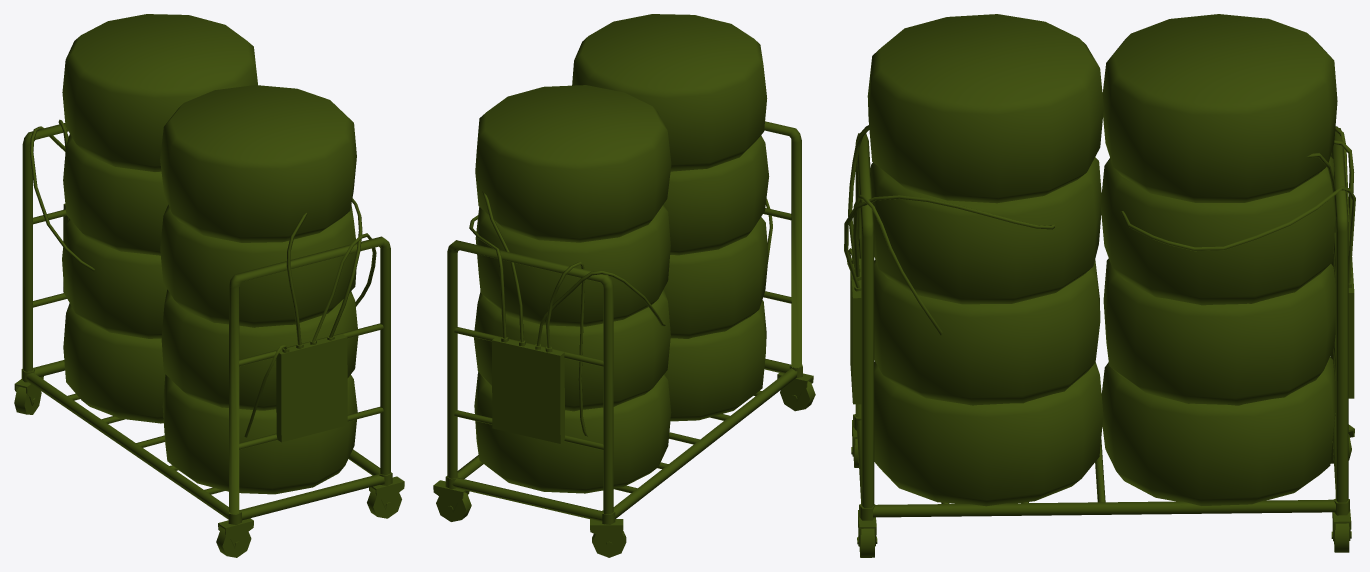
Rendered from Tire_warmers01_M.fbx.
The picture shows the model from 3 angles, left to right: view 1: azimuth 30°, elevation 25°; view 2: azimuth 150°, elevation 25°; view 3: azimuth 270°, elevation 25°; orthographic projection. The views are drawn at different scales.
Parts seen in each view (by area): view 1: Tire_warmers01_Tire_4, Tire_warmers01_troll, Tire_warmers01_Tire_8, Tire_warmers01_Tire_3, Tire_warmers01_Tire_1, Tire_warmers01_Tire_2, Tire_warmers01_Tire_6, Tire_warmers01_Tire_5, Tire_warmers01_Tire_7, Tire_warmers01_trollWires, Tire_warmers01_Wheel_2, Tire_warmers01_Wheel_4 (+1 smaller); view 2: Tire_warmers01_Tire_8, Tire_warmers01_troll, Tire_warmers01_Tire_4, Tire_warmers01_Tire_7, Tire_warmers01_Tire_5, Tire_warmers01_Tire_6, Tire_warmers01_Tire_2, Tire_warmers01_Tire_3, Tire_warmers01_Tire_1, Tire_warmers01_trollWires, Tire_warmers01_Wheel_1, Tire_warmers01_Wheel_3 (+1 smaller); view 3: Tire_warmers01_Tire_4, Tire_warmers01_Tire_8, Tire_warmers01_Tire_5, Tire_warmers01_Tire_6, Tire_warmers01_Tire_1, Tire_warmers01_Tire_7, Tire_warmers01_Tire_2, Tire_warmers01_Tire_3, Tire_warmers01_troll, Tire_warmers01_trollWires, Tire_warmers01_Wheel_3, Tire_warmers01_Wheel_4.
Part boxes in pixels (left/top/right/bottom): Tire_warmers01_Tire_4: left=160, top=85, right=356, bottom=242; Tire_warmers01_troll: left=22, top=123, right=390, bottom=520; Tire_warmers01_Tire_8: left=62, top=14, right=257, bottom=171; Tire_warmers01_Tire_3: left=160, top=204, right=356, bottom=327; Tire_warmers01_Tire_1: left=162, top=374, right=357, bottom=494; Tire_warmers01_Tire_2: left=161, top=289, right=358, bottom=410; Tire_warmers01_Tire_6: left=62, top=219, right=167, bottom=338; Tire_warmers01_Tire_5: left=63, top=303, right=165, bottom=423; Tire_warmers01_Tire_7: left=63, top=134, right=168, bottom=255; Tire_warmers01_trollWires: left=30, top=119, right=376, bottom=437; Tire_warmers01_Wheel_2: left=216, top=511, right=253, bottom=557; Tire_warmers01_Wheel_4: left=367, top=471, right=404, bottom=518; Tire_warmers01_Tire_8: left=475, top=85, right=671, bottom=242; Tire_warmers01_troll: left=447, top=121, right=801, bottom=521; Tire_warmers01_Tire_4: left=572, top=14, right=767, bottom=171; Tire_warmers01_Tire_7: left=475, top=205, right=670, bottom=326; Tire_warmers01_Tire_5: left=474, top=372, right=671, bottom=493; Tire_warmers01_Tire_6: left=474, top=289, right=670, bottom=411; Tire_warmers01_Tire_2: left=664, top=217, right=768, bottom=338; Tire_warmers01_Tire_3: left=663, top=135, right=769, bottom=255; Tire_warmers01_Tire_1: left=664, top=300, right=766, bottom=421; Tire_warmers01_trollWires: left=469, top=191, right=772, bottom=436; Tire_warmers01_Wheel_1: left=590, top=510, right=626, bottom=557; Tire_warmers01_Wheel_3: left=433, top=474, right=471, bottom=521; Tire_warmers01_Tire_4: left=867, top=14, right=1103, bottom=203; Tire_warmers01_Tire_8: left=1102, top=14, right=1337, bottom=202; Tire_warmers01_Tire_5: left=1101, top=357, right=1335, bottom=505; Tire_warmers01_Tire_6: left=1103, top=258, right=1335, bottom=405; Tire_warmers01_Tire_1: left=874, top=361, right=1103, bottom=506; Tire_warmers01_Tire_7: left=1101, top=156, right=1335, bottom=305; Tire_warmers01_Tire_2: left=874, top=259, right=1100, bottom=405; Tire_warmers01_Tire_3: left=870, top=157, right=1101, bottom=304; Tire_warmers01_troll: left=850, top=128, right=1354, bottom=517; Tire_warmers01_trollWires: left=844, top=125, right=1355, bottom=335; Tire_warmers01_Wheel_3: left=1331, top=499, right=1351, bottom=552; Tire_warmers01_Wheel_4: left=857, top=504, right=877, bottom=557.
Bounding box in the file's own units: 0.2619 × 0.486 × 0.4967.
